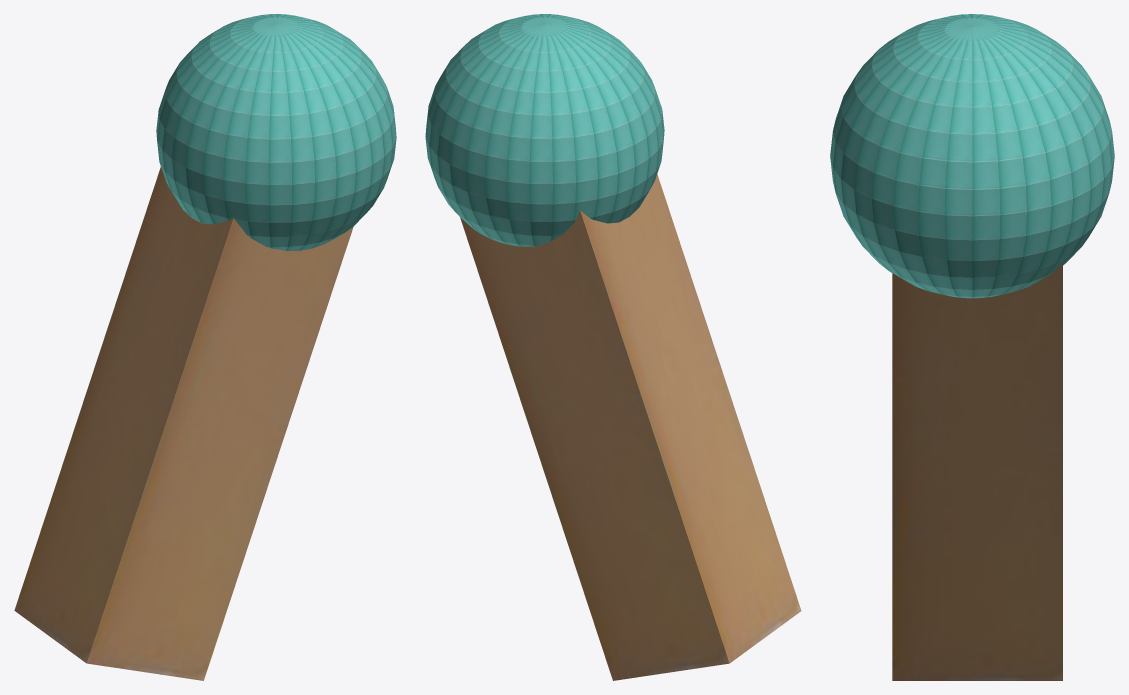
Rendered from romeorightarm.obj.
The picture shows the model from 3 angles, left to right: view 1: azimuth 30°, elevation 25°; view 2: azimuth 150°, elevation 25°; view 3: azimuth 270°, elevation 25°; orthographic projection. The views are drawn at different scales.
Parts seen in each view (by area): view 1: Cube.004_Cube, Sphere; view 2: Cube.004_Cube, Sphere; view 3: Cube.004_Cube, Sphere.
Part boxes in pixels (x1,y1,x2,y2): Cube.004_Cube: [14, 167, 353, 680]; Sphere: [156, 14, 396, 250]; Cube.004_Cube: [460, 174, 801, 680]; Sphere: [425, 14, 664, 246]; Cube.004_Cube: [892, 263, 1062, 680]; Sphere: [830, 14, 1114, 298].
Bounding box in the file's own units: 1.94 × 3.42 × 1.23.
Materials: 2 (2 with a texture image).
